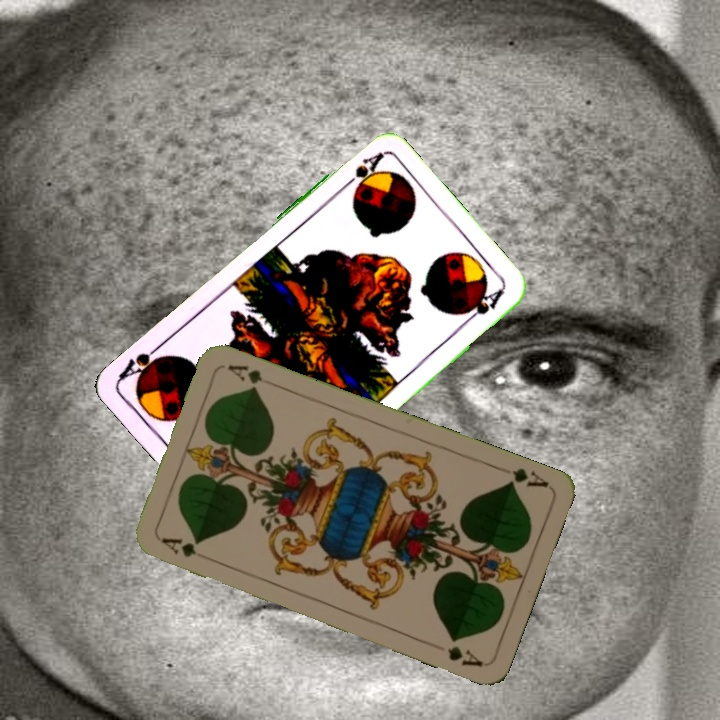GA: (494, 462, 552, 491), (157, 533, 201, 560)
SA: (336, 149, 386, 195)
